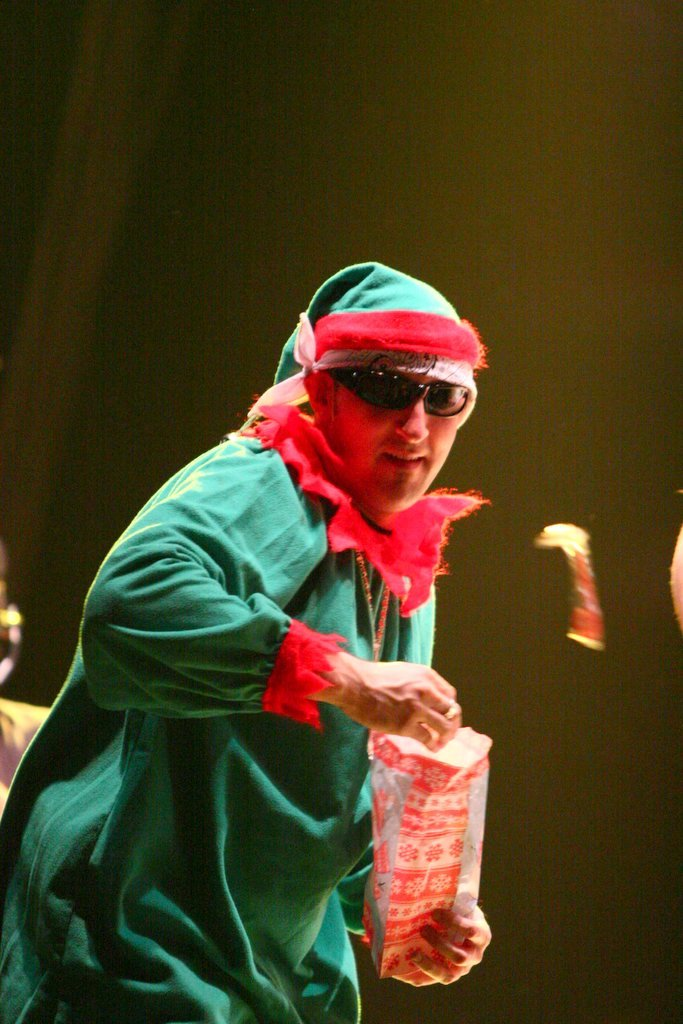face: (337, 321, 463, 510)
